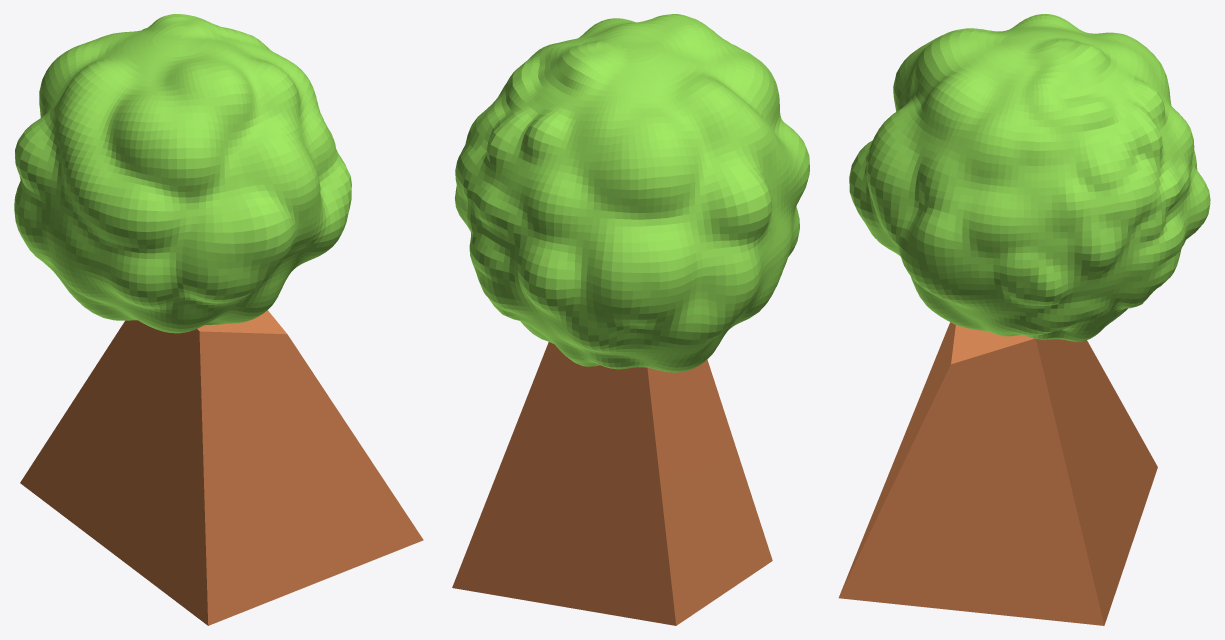
The model's file is arbolsolo.gltf.
3 renders of one model, left to right at view 1: azimuth 30°, elevation 25°; view 2: azimuth 150°, elevation 25°; view 3: azimuth 270°, elevation 25°, orthographic. The views are drawn at different scales.
Visible parts, largest first — view 1: Sphere.001, Cube; view 2: Sphere.001, Cube; view 3: Sphere.001, Cube.
Boxes of the visible parts, box(x1,y1,x2,y2) form: Sphere.001: box(14, 14, 351, 333); Cube: box(20, 310, 423, 625); Sphere.001: box(455, 14, 809, 372); Cube: box(452, 342, 772, 625); Sphere.001: box(849, 14, 1210, 341); Cube: box(838, 322, 1157, 625).
Size of the model in its own units: 2.26 by 3.85 by 2.42.
